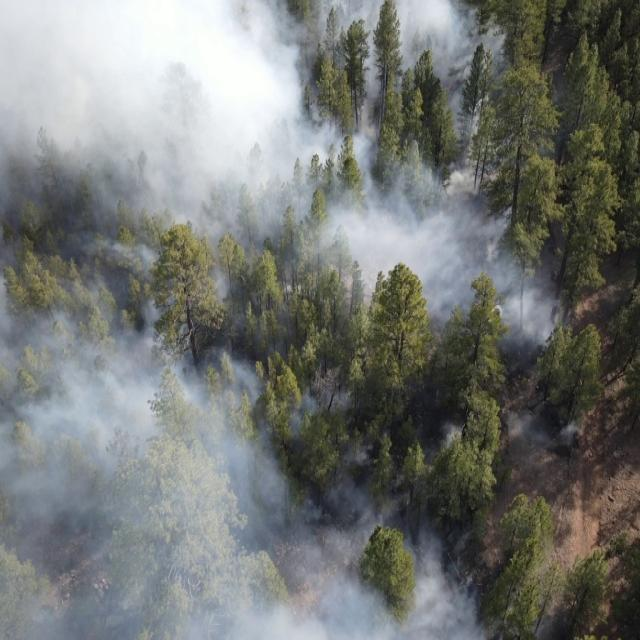smoke: (1, 0, 505, 274), (0, 275, 358, 640), (358, 496, 488, 640), (420, 275, 568, 357), (504, 412, 582, 449), (419, 421, 463, 479), (358, 276, 391, 303)
